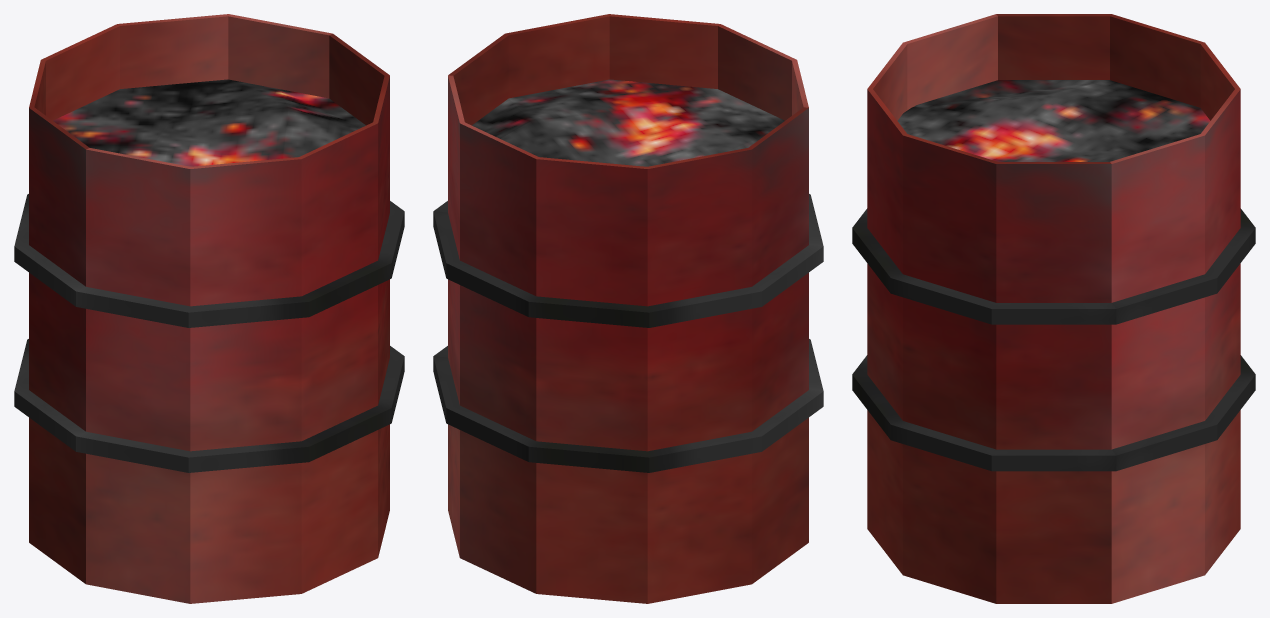
Rendered from old_barrel_01_coal.fbx.
3 views of the same model, side by side, from view 1: azimuth 30°, elevation 25°; view 2: azimuth 150°, elevation 25°; view 3: azimuth 270°, elevation 25° (orthographic).
Parts seen in each view (by area): view 1: Barrel Opened, Coal; view 2: Barrel Opened, Coal; view 3: Barrel Opened, Coal.
Boxes of the visible parts, bbox=[...] form: Barrel Opened: bbox=[14, 14, 404, 603]; Coal: bbox=[53, 79, 365, 166]; Barrel Opened: bbox=[433, 14, 823, 603]; Coal: bbox=[472, 79, 784, 166]; Barrel Opened: bbox=[852, 14, 1255, 603]; Coal: bbox=[897, 80, 1210, 161].
Bounding box in the file's own units: 0.9914 × 1.04 × 1.25.
